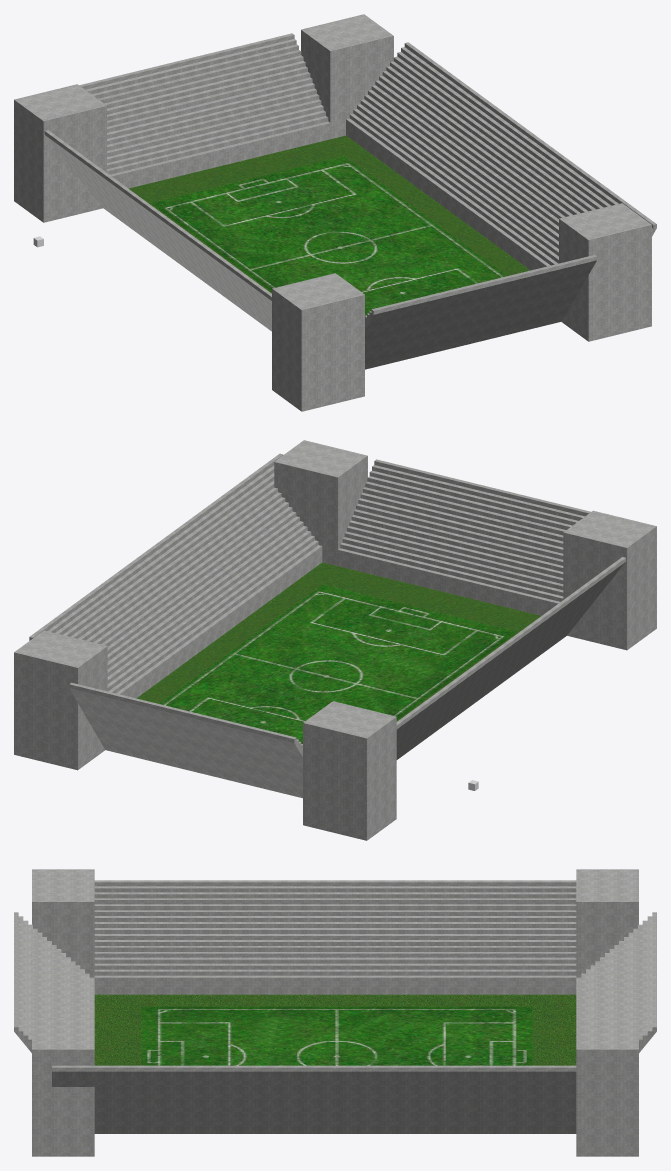
The picture shows the model from 3 angles, top to bottom: view 1: azimuth 30°, elevation 25°; view 2: azimuth 150°, elevation 25°; view 3: azimuth 270°, elevation 25°; orthographic projection. The views are drawn at different scales.
Visible parts, largest first — view 1: Gradas004, Plane001; view 2: Gradas004, Plane001; view 3: Gradas004, Plane001.
Boxes of the visible parts, x1,y1,x2,y2 form: Gradas004: (14,14,656,411); Plane001: (129,135,530,315); Gradas004: (14,440,656,840); Plane001: (136,562,540,743); Gradas004: (14,869,656,1156); Plane001: (94,994,576,1065).
Bounding box in the file's own units: 62.8 × 14.92 × 81.18.
Materials: 3 (3 with a texture image).
